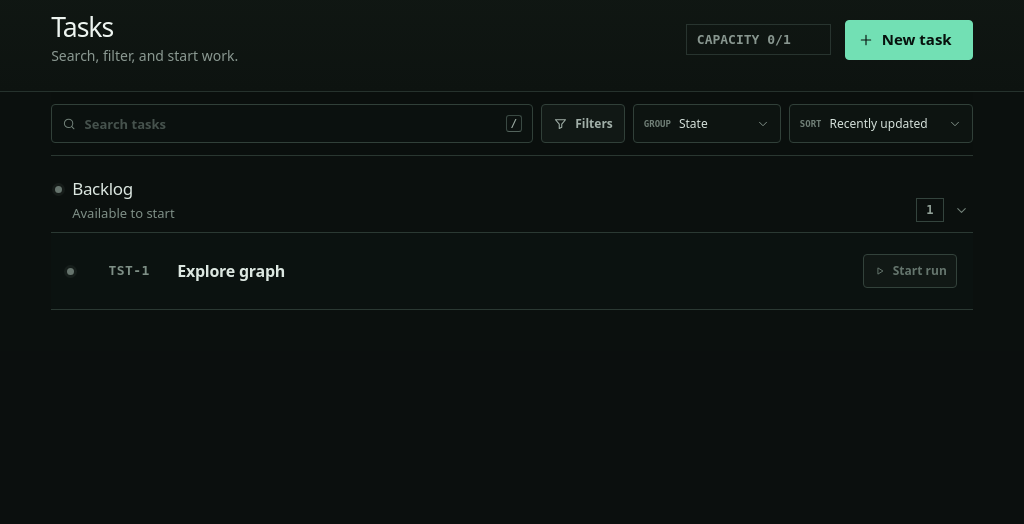
Test case: WorkBoard › moves between open, all, and finished from the Resolution filter
This screenshot has width=1024, height=524.
Expected: the text "Shipped graph" is not shown
Click the button "Filters" at (583, 124), box top-left (541, 104), bottom-right (625, 143)
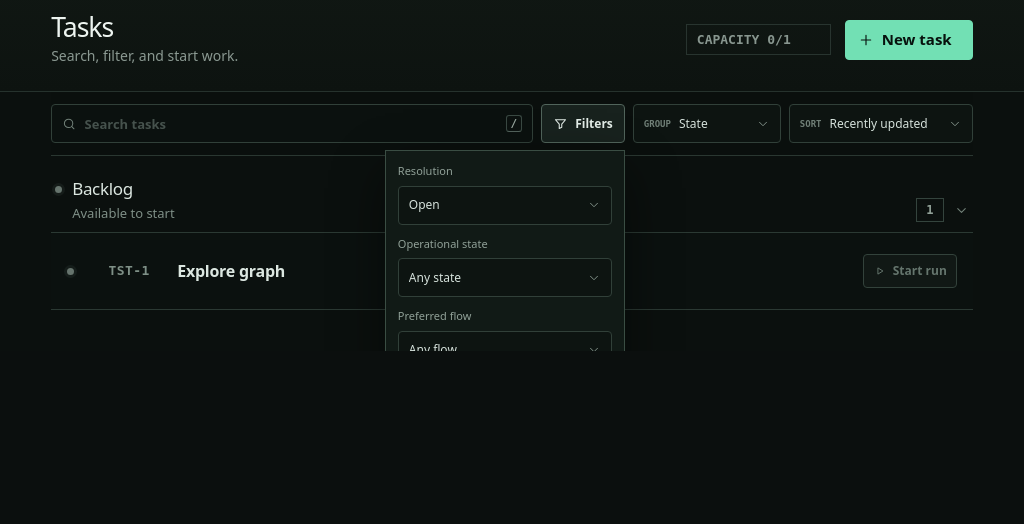
Click the dropdown named "Resolution" at (505, 205), box top-left (398, 186), bottom-right (612, 224)
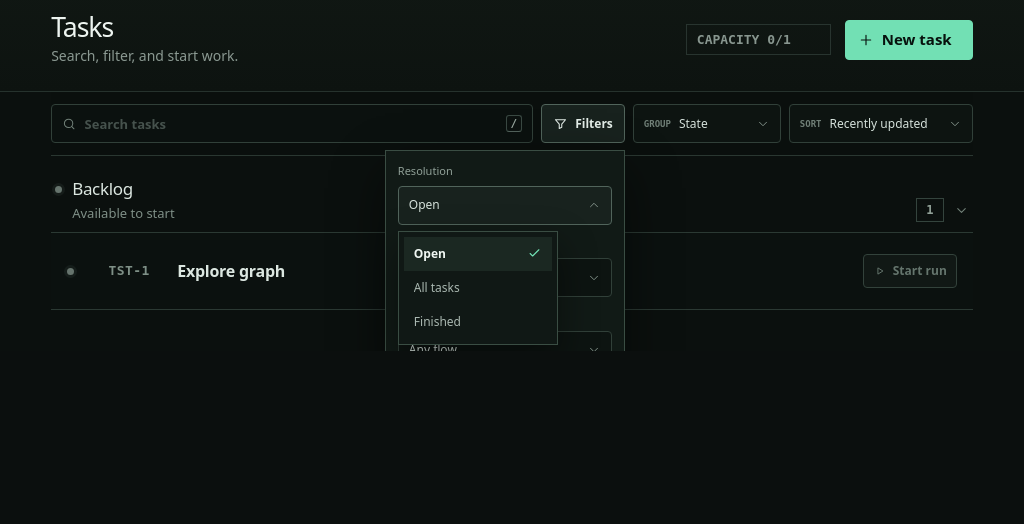
Click the option "All tasks" at (437, 287), box top-left (414, 278), bottom-right (460, 296)
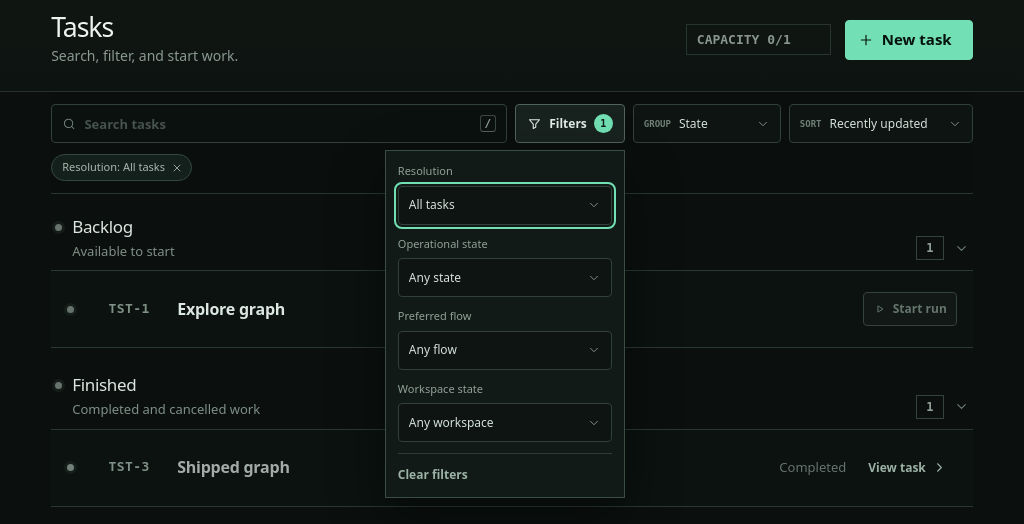
Expected: the text "Explore graph" is shown, top-left (177, 298), bottom-right (285, 320)
Expected: the text "Shipped graph" is shown, top-left (177, 456), bottom-right (290, 478)
Expected: the button "Resolution: All tasks" is shown, top-left (51, 154), bottom-right (192, 181)
Click the dropdown named "Resolution" at (505, 205), box top-left (398, 186), bottom-right (612, 224)
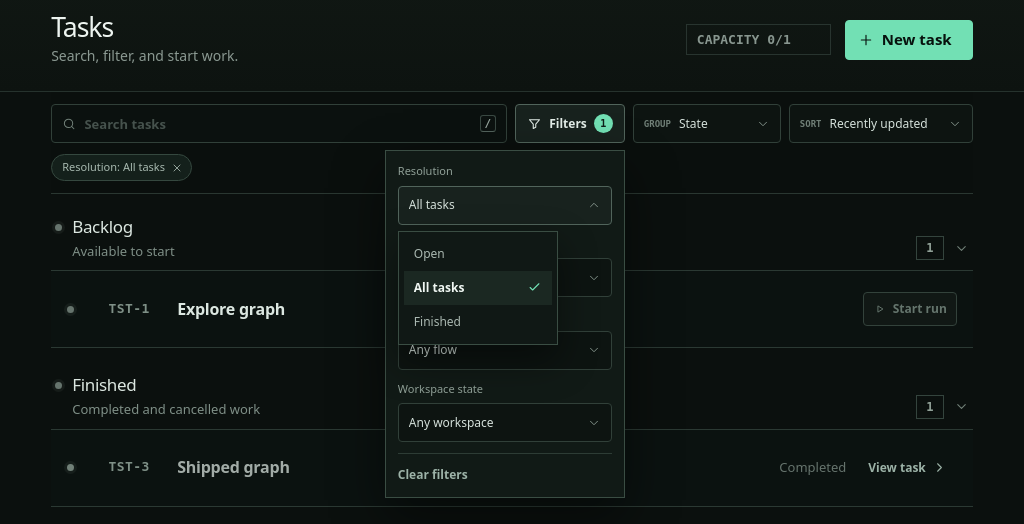
Click the option "Finished" at (437, 321), box top-left (414, 312), bottom-right (461, 330)
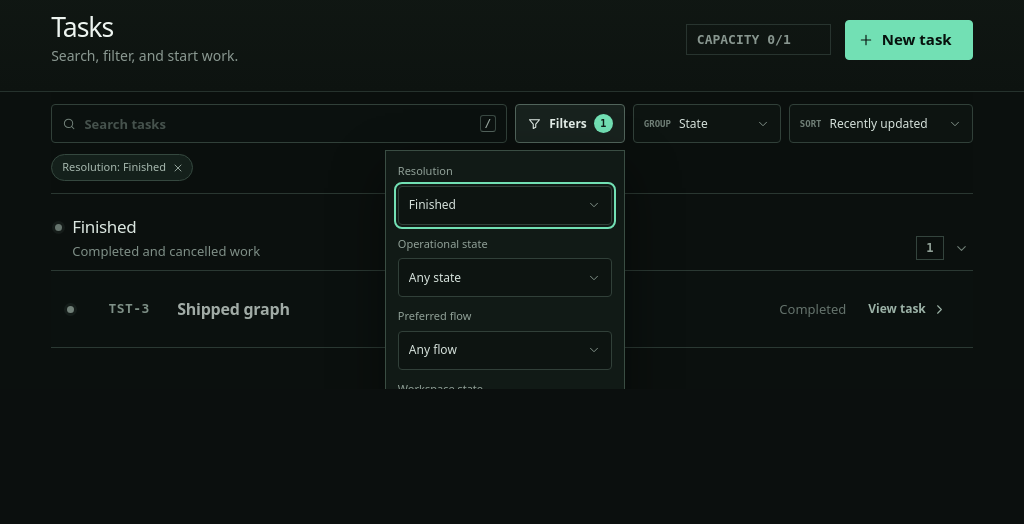
Expected: the text "Shipped graph" is shown, top-left (177, 298), bottom-right (290, 320)
Expected: the button "Explore graph" is gone
